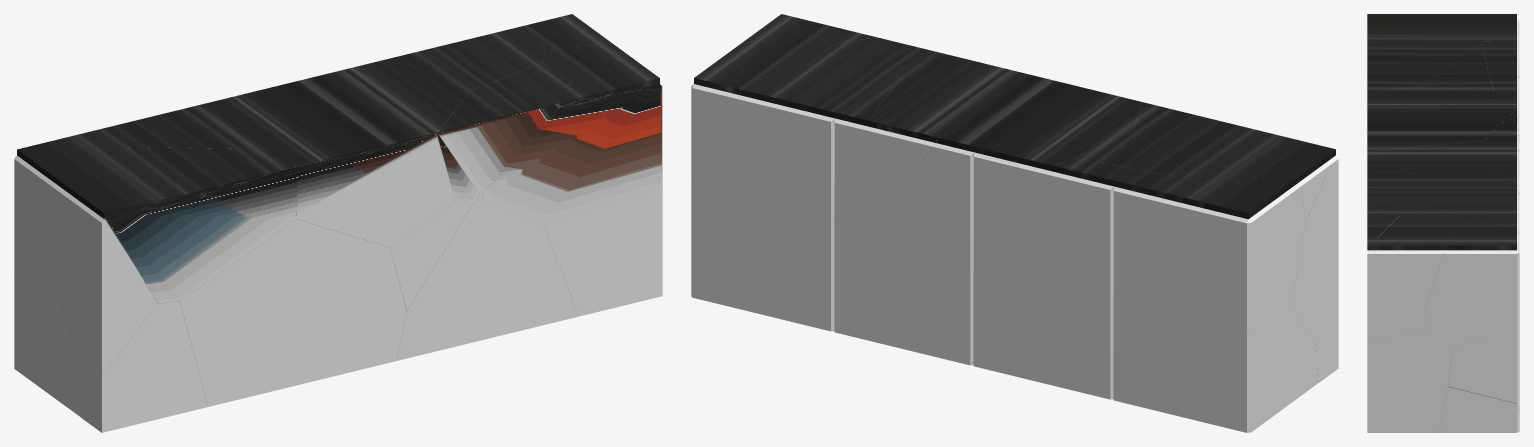
File: Desk_Fractured.fbx
3 views of the same model, side by side, from view 1: azimuth 30°, elevation 25°; view 2: azimuth 150°, elevation 25°; view 3: azimuth 270°, elevation 25° (orthographic). The views are drawn at different scales.
Visible parts, largest first — view 1: tu_ke1_cell.010, tu_ke1_cell.017, tu_ke1_cell.007, tu_ke1_cell.013, tu_ke1_cell.011, tu_ke1_cell.023, tu_ke1_cell.022, tu_ke1_cell.003, tu_ke1_cell.020, tu_ke1_cell.018, tu_ke1_cell.002, tu_ke1_cell.019 (+7 smaller); view 2: tu_ke1_cell.005, tu_ke1_cell, tu_ke1_cell.018, tu_ke1_cell.019, tu_ke1_cell.008, tu_ke1_cell.006, tu_ke1_cell.015, tu_ke1_cell.007, tu_ke1_cell.004, tu_ke1_cell.017, tu_ke1_cell.001, tu_ke1_cell.002 (+9 smaller); view 3: tu_ke1_cell.009, tu_ke1_cell.007, tu_ke1_cell.023, tu_ke1_cell.017, tu_ke1_cell.014, tu_ke1_cell.002, tu_ke1_cell.013, tu_ke1_cell.015, tu_ke1_cell.005, tu_ke1_cell.020, tu_ke1_cell.016, tu_ke1_cell (+4 smaller).
Part boxes in pixels (bbox=[...]): tu_ke1_cell.010: bbox=[179, 219, 406, 406]; tu_ke1_cell.017: bbox=[64, 147, 298, 303]; tu_ke1_cell.007: bbox=[212, 89, 454, 247]; tu_ke1_cell.013: bbox=[482, 77, 662, 221]; tu_ke1_cell.011: bbox=[397, 200, 578, 360]; tu_ke1_cell.023: bbox=[542, 186, 662, 316]; tu_ke1_cell.022: bbox=[55, 215, 157, 377]; tu_ke1_cell.003: bbox=[79, 301, 207, 432]; tu_ke1_cell.020: bbox=[437, 63, 570, 193]; tu_ke1_cell.018: bbox=[14, 133, 102, 301]; tu_ke1_cell.002: bbox=[329, 61, 478, 203]; tu_ke1_cell.019: bbox=[14, 272, 81, 417]; tu_ke1_cell.005: bbox=[732, 64, 901, 229]; tu_ke1_cell: bbox=[1049, 130, 1195, 358]; tu_ke1_cell.018: bbox=[1176, 178, 1305, 335]; tu_ke1_cell.019: bbox=[1113, 306, 1318, 432]; tu_ke1_cell.008: bbox=[795, 208, 958, 362]; tu_ke1_cell.006: bbox=[894, 200, 1078, 364]; tu_ke1_cell.015: bbox=[691, 176, 817, 327]; tu_ke1_cell.007: bbox=[965, 68, 1142, 199]; tu_ke1_cell.004: bbox=[910, 146, 1054, 287]; tu_ke1_cell.017: bbox=[1133, 102, 1335, 222]; tu_ke1_cell.001: bbox=[1050, 158, 1200, 238]; tu_ke1_cell.002: bbox=[877, 68, 1004, 163]; tu_ke1_cell.009: bbox=[1424, 221, 1519, 346]; tu_ke1_cell.007: bbox=[1367, 85, 1519, 151]; tu_ke1_cell.023: bbox=[1367, 331, 1452, 432]; tu_ke1_cell.017: bbox=[1367, 14, 1483, 94]; tu_ke1_cell.014: bbox=[1370, 215, 1464, 312]; tu_ke1_cell.002: bbox=[1367, 140, 1519, 180]; tu_ke1_cell.013: bbox=[1367, 206, 1428, 339]; tu_ke1_cell.015: bbox=[1448, 330, 1519, 410]; tu_ke1_cell.005: bbox=[1426, 175, 1519, 233]; tu_ke1_cell.020: bbox=[1367, 152, 1443, 215]; tu_ke1_cell.016: bbox=[1439, 387, 1519, 432]; tu_ke1_cell: bbox=[1420, 44, 1493, 91].
Bounding box in the file's own units: 1106 × 412 × 305.
